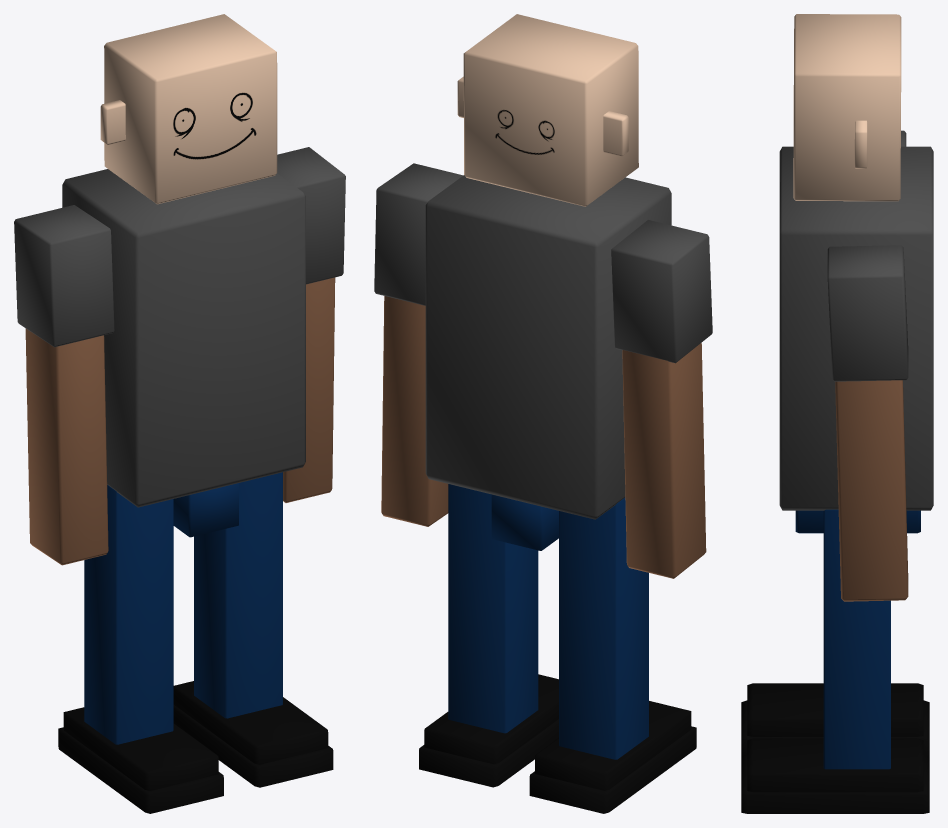
Rendered from GenericMan.FBX.
3 renders of one model, left to right at view 1: azimuth 30°, elevation 25°; view 2: azimuth 150°, elevation 25°; view 3: azimuth 270°, elevation 25°, orthographic. The views are drawn at different scales.
Visible parts, largest first — view 1: Body, RArm, Head, RLeg, LLeg, LArm, RFoot, LFoot, Pelvis; view 2: Body, RArm, Head, RLeg, LLeg, LArm, RFoot, LFoot, Pelvis; view 3: Body, LArm, Head, LLeg, LFoot, RFoot, Pelvis.
Part boxes in pixels (box(x1,y1,x2,y2)): Body: box(62, 169, 305, 507); RArm: box(14, 205, 114, 565); Head: box(100, 14, 277, 204); RLeg: box(84, 485, 173, 744); LLeg: box(194, 472, 282, 718); LArm: box(277, 147, 345, 502); RFoot: box(58, 707, 223, 813); LFoot: box(173, 681, 333, 787); Pelvis: box(173, 483, 238, 537); Body: box(425, 175, 671, 519); RArm: box(611, 220, 712, 578); Head: box(457, 14, 638, 206); RLeg: box(559, 497, 648, 759); LLeg: box(448, 484, 538, 733); LArm: box(374, 163, 463, 526); RFoot: box(529, 701, 696, 813); LFoot: box(419, 674, 558, 787); Pelvis: box(491, 494, 558, 550); Body: box(779, 146, 933, 510); LArm: box(827, 245, 908, 601); Head: box(793, 14, 901, 201); LLeg: box(823, 509, 890, 769); LFoot: box(741, 738, 929, 813); RFoot: box(741, 683, 929, 757); Pelvis: box(795, 510, 920, 533).
Size of the model in its own units: 134 by 306 by 73.6.
